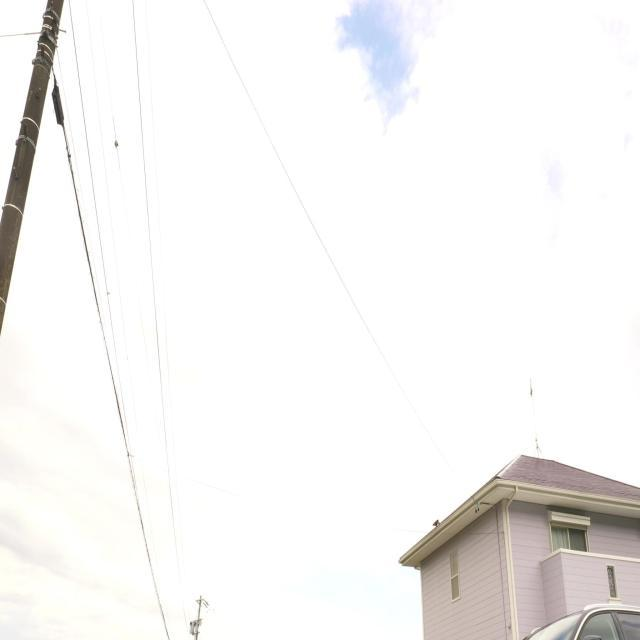Birds: (430, 514, 442, 530)
